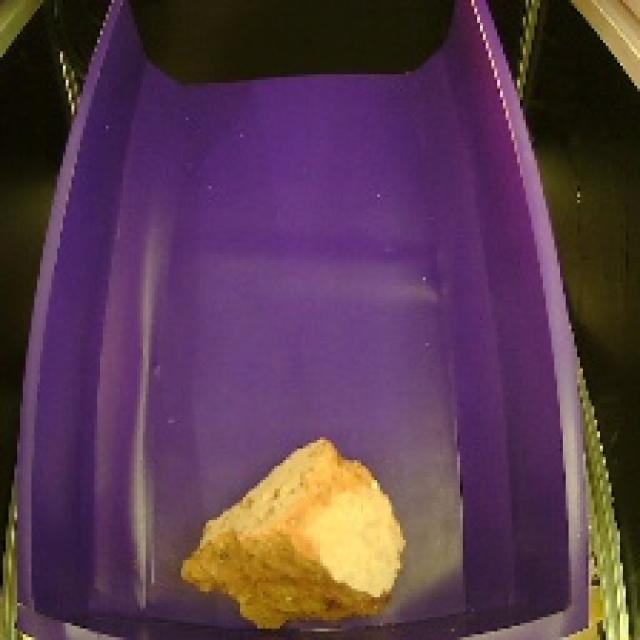brick: (173, 426, 413, 640)
